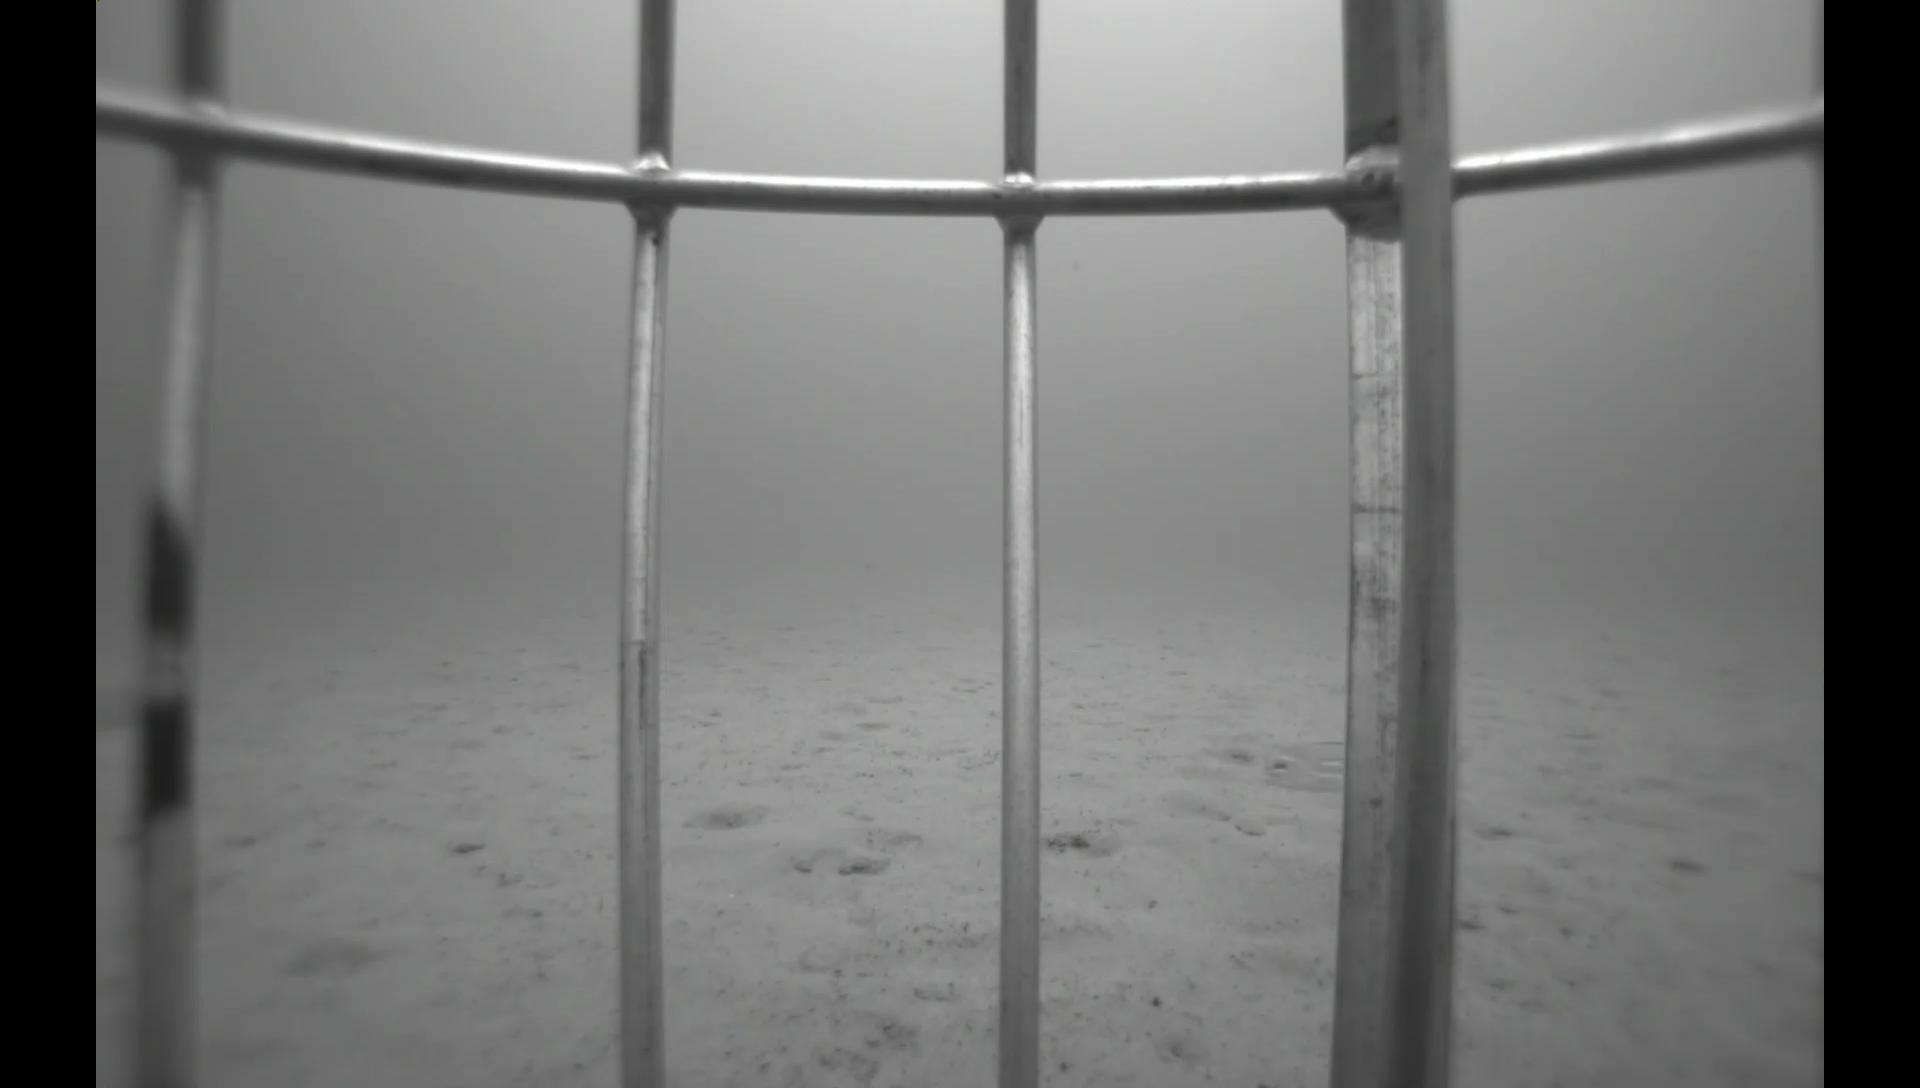CAULOLATILUSCYANOPS-170070101: (1258, 731, 1484, 802)
